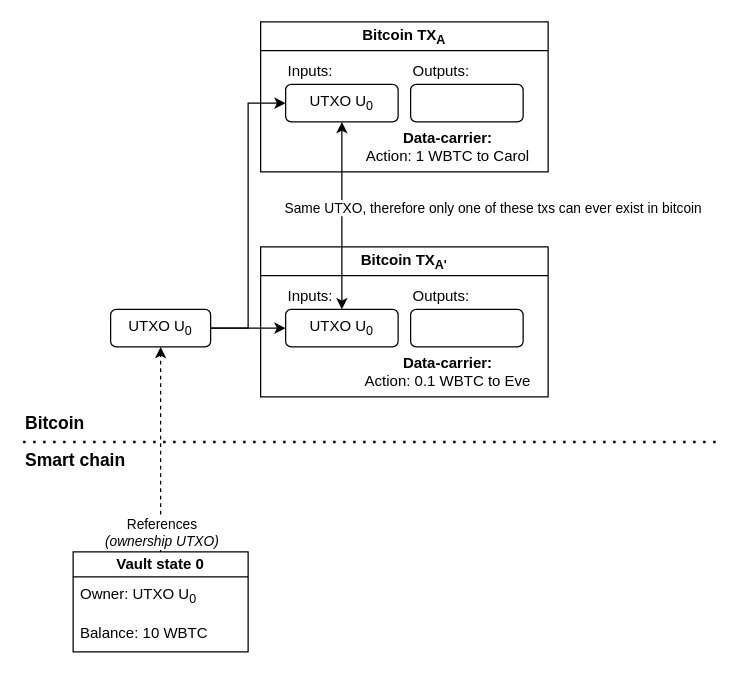
Some shapes in this 740 by 674 pixel diagram are drawn without their labels. The shapes that lost their labels are listed below. From the top down, each one's centre as x and y in pixels, then its label:
At [466,102]: "UTXO U A,0".
At [466,327]: "UTXO U A',0".
